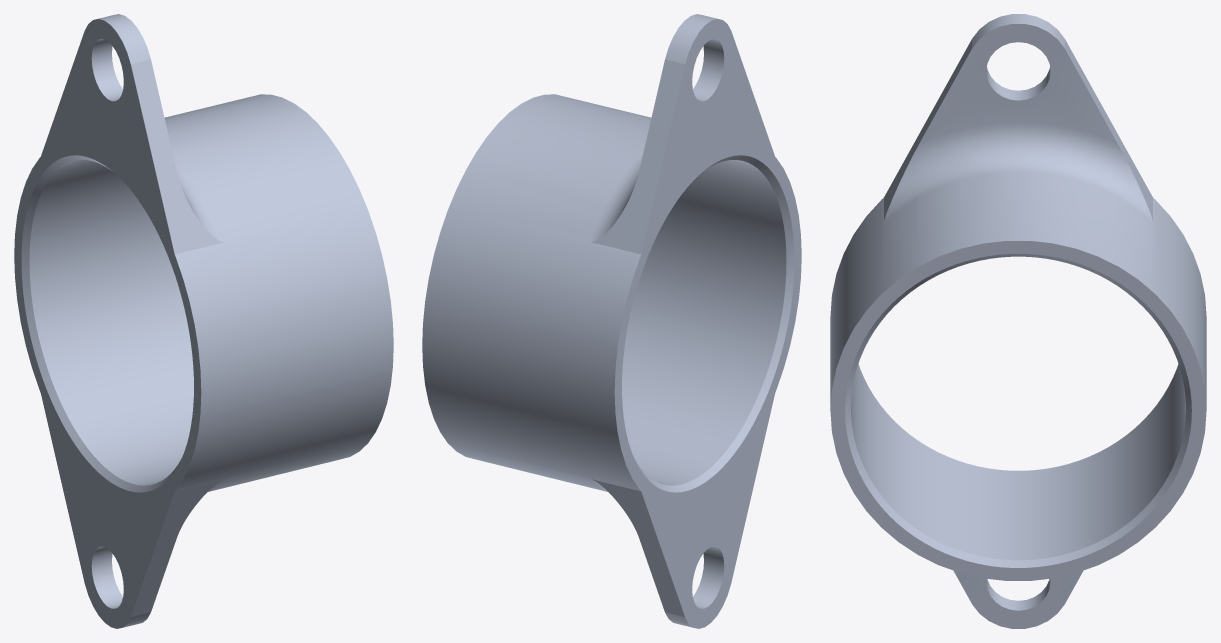
Rendered from UA_26_Front_ARB_Assembly__UA_26_ARB_Bearing_Block_1.dae.
The picture shows the model from 3 angles, left to right: view 1: azimuth 30°, elevation 25°; view 2: azimuth 150°, elevation 25°; view 3: azimuth 270°, elevation 25°; orthographic projection.
Parts seen in each view (by area): view 1: node0; view 2: node0; view 3: node0.
Part boxes in pixels (x1,y1,x2,y2): node0: [14, 14, 393, 628]; node0: [422, 14, 801, 628]; node0: [830, 14, 1206, 628].
Bounding box in the file's own units: 0.0191 × 0.0569 × 0.0321.
